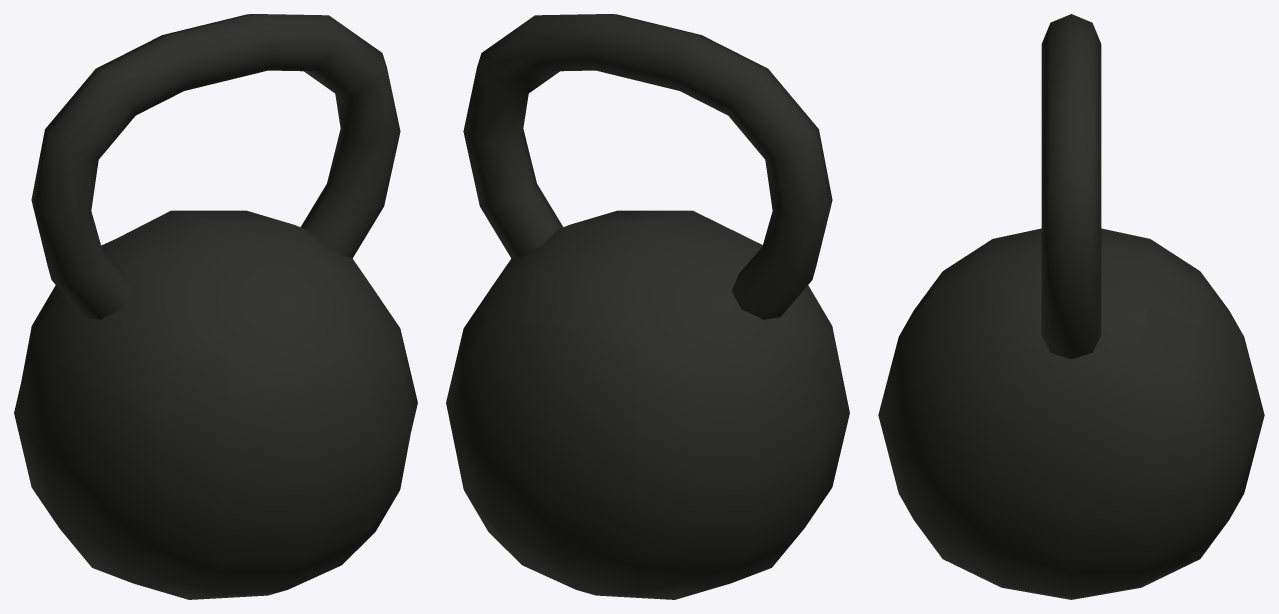
Rendered from kettlebell.glb.
The picture shows the model from 3 angles, left to right: view 1: azimuth 30°, elevation 25°; view 2: azimuth 150°, elevation 25°; view 3: azimuth 270°, elevation 25°; orthographic projection. The views are drawn at different scales.
Visible parts, largest first — view 1: kettlebell_1_gym_environment_0; view 2: kettlebell_1_gym_environment_0; view 3: kettlebell_1_gym_environment_0.
Part boxes in pixels (x1,y1,x2,y2): kettlebell_1_gym_environment_0: [14, 14, 417, 599]; kettlebell_1_gym_environment_0: [446, 14, 849, 599]; kettlebell_1_gym_environment_0: [878, 14, 1264, 599].
Bounding box in the file's own units: 0.1656 × 0.2326 × 0.16.
Materials: 1 (1 with a texture image).
